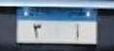3: (31, 23, 43, 39)
alif: (70, 23, 82, 42)
